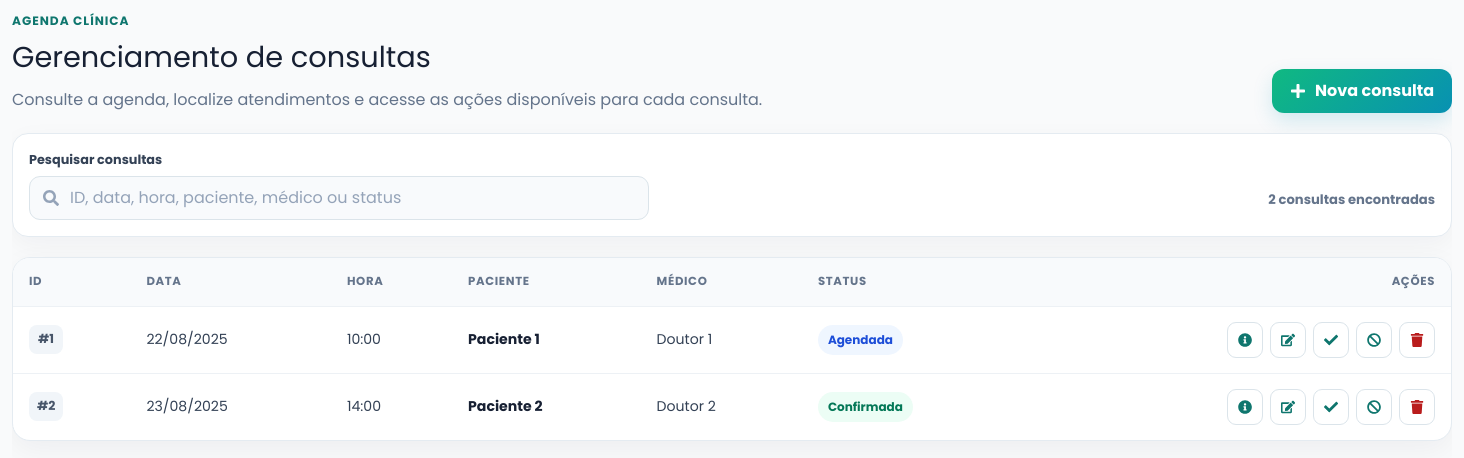
Test: AppointmentList workspace › renders a labelled search control and filters by patient
In the search field labelled "Pesquisar consultas": coordinates (339, 198) 29,176 -> 649,220, type "Paciente 2"
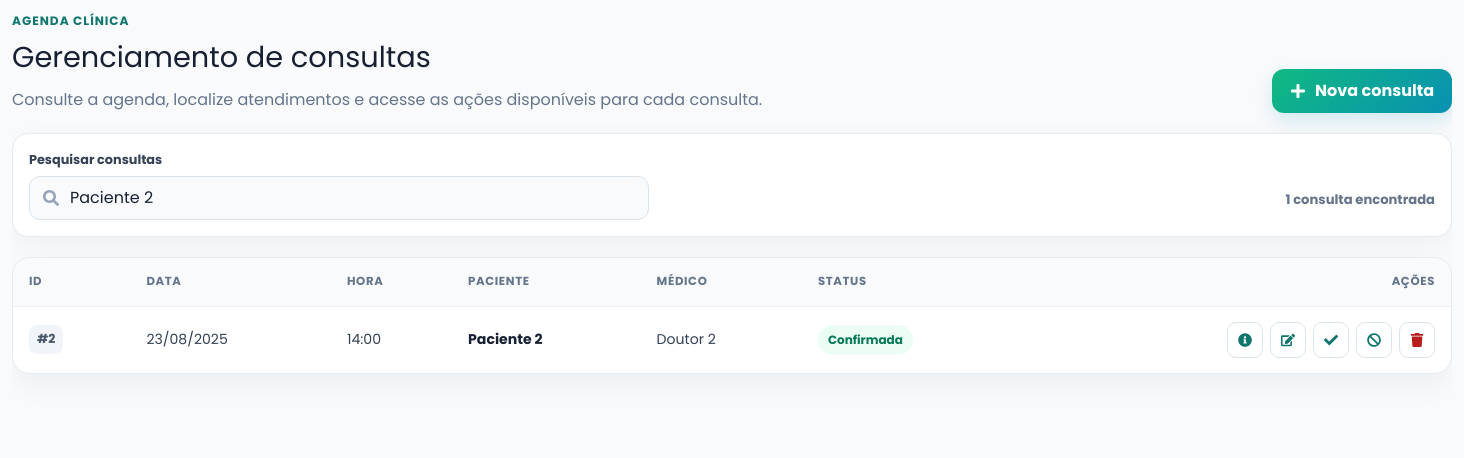
Expected: the text "Paciente 2" is shown, 468,329 -> 543,349
Result: the text "Paciente 1" is gone
Result: the text "1 consulta encontrada" is shown at 1286,190 -> 1435,220
